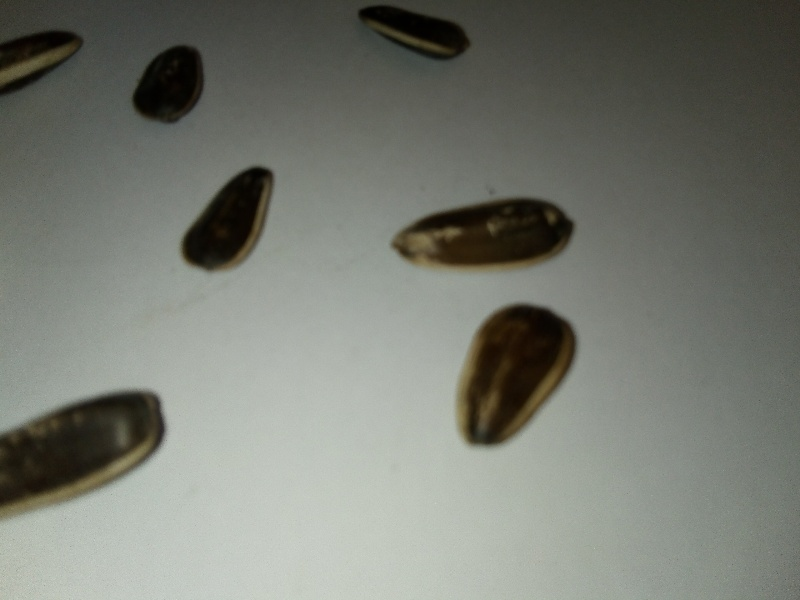w: (447, 293, 587, 465), (390, 186, 581, 275), (174, 158, 289, 276)
